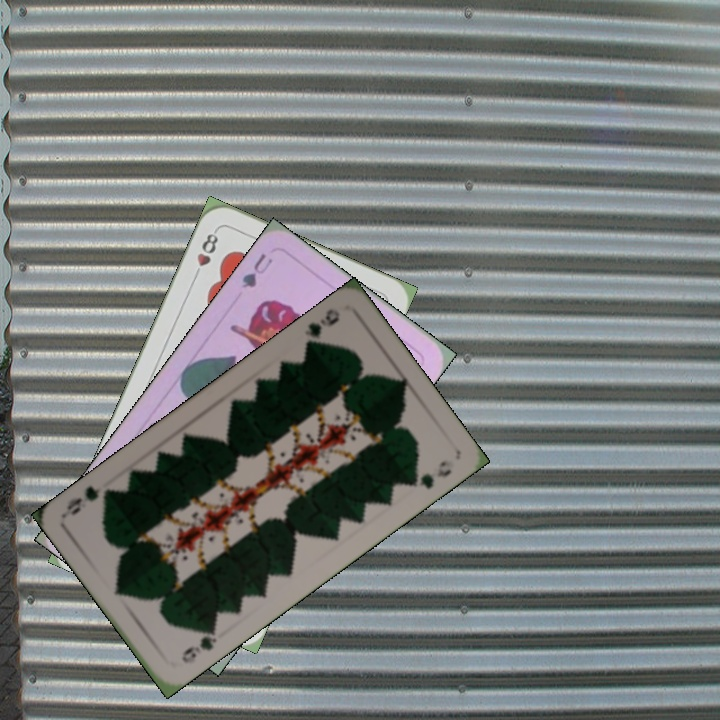G9: (300, 304, 343, 354), (177, 622, 219, 666)
GU: (238, 249, 276, 291)
H8: (189, 226, 221, 282)
